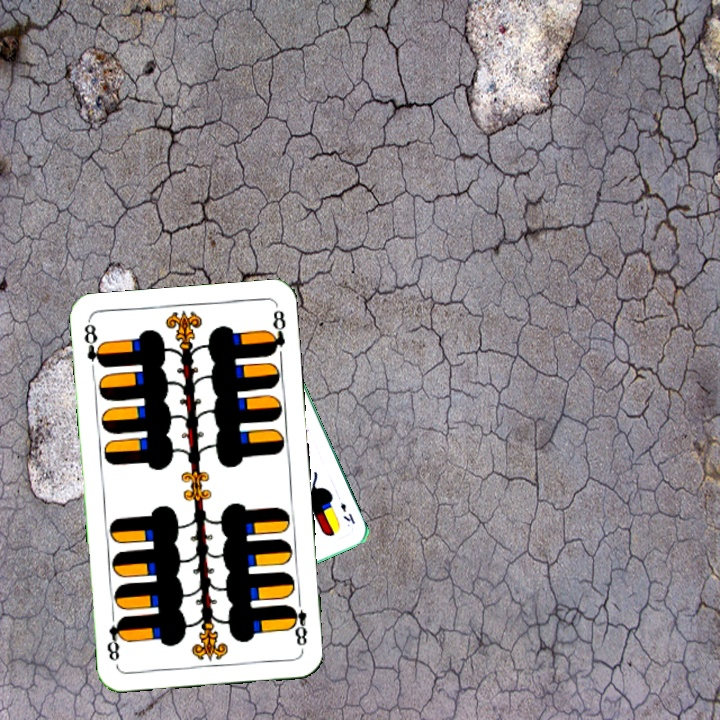E8: (80, 318, 107, 370), (285, 593, 310, 648)
EK: (336, 499, 358, 526)
